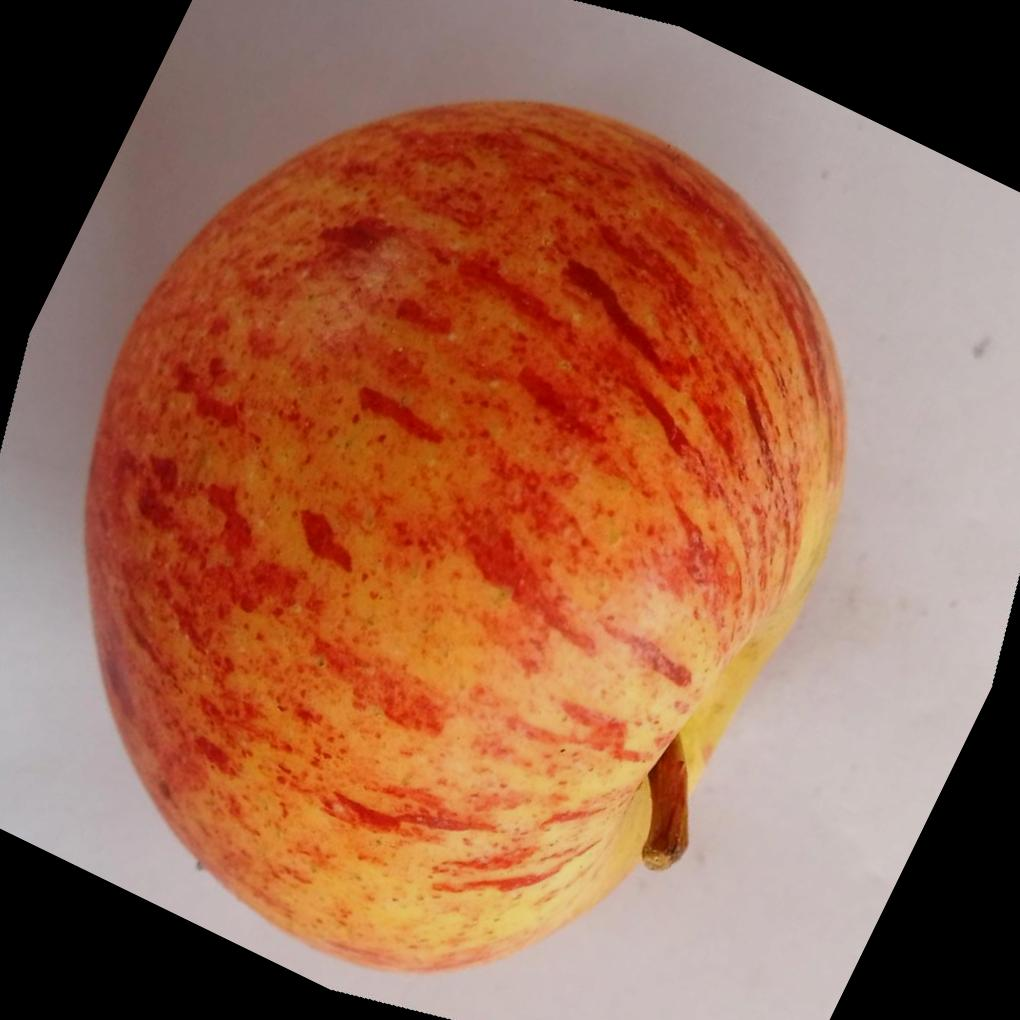FreshGuava: (82, 97, 851, 976)
